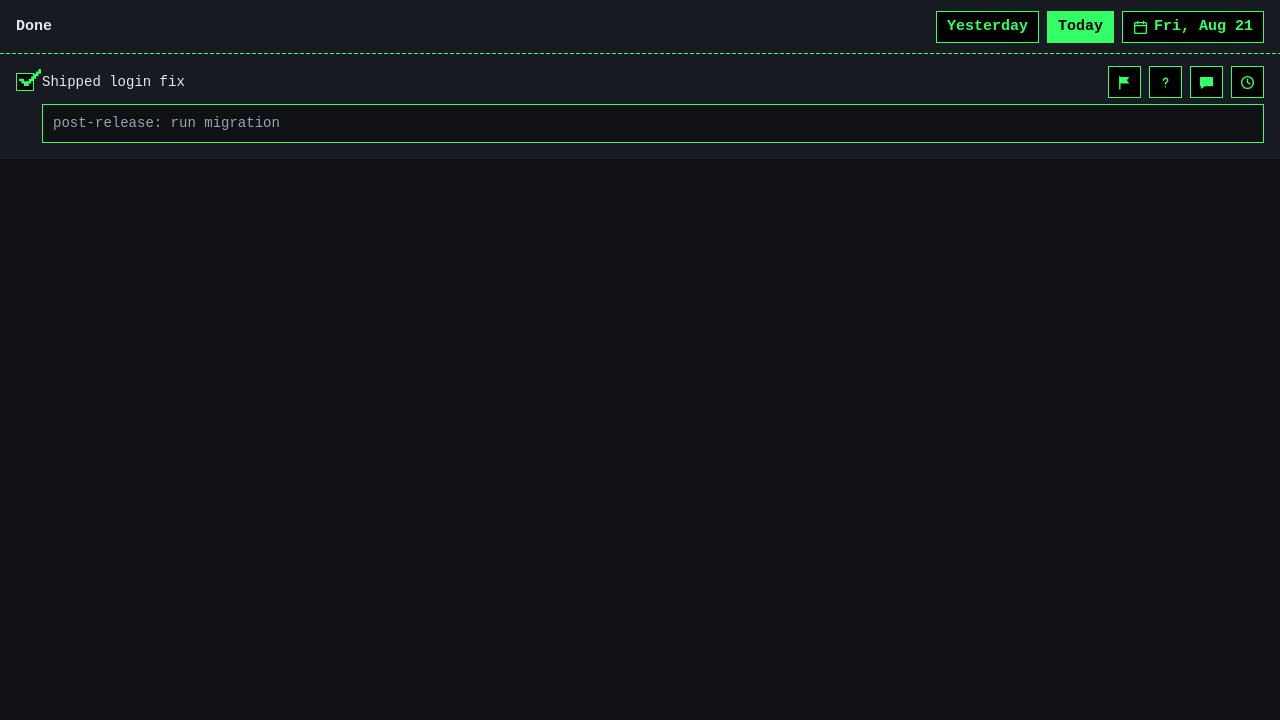
Test: DoneLogBox › disables calendar days that have no logged items
Click the button with aria-label "Pick day". click: point(1193, 27)
box: [1122, 11, 1264, 43]
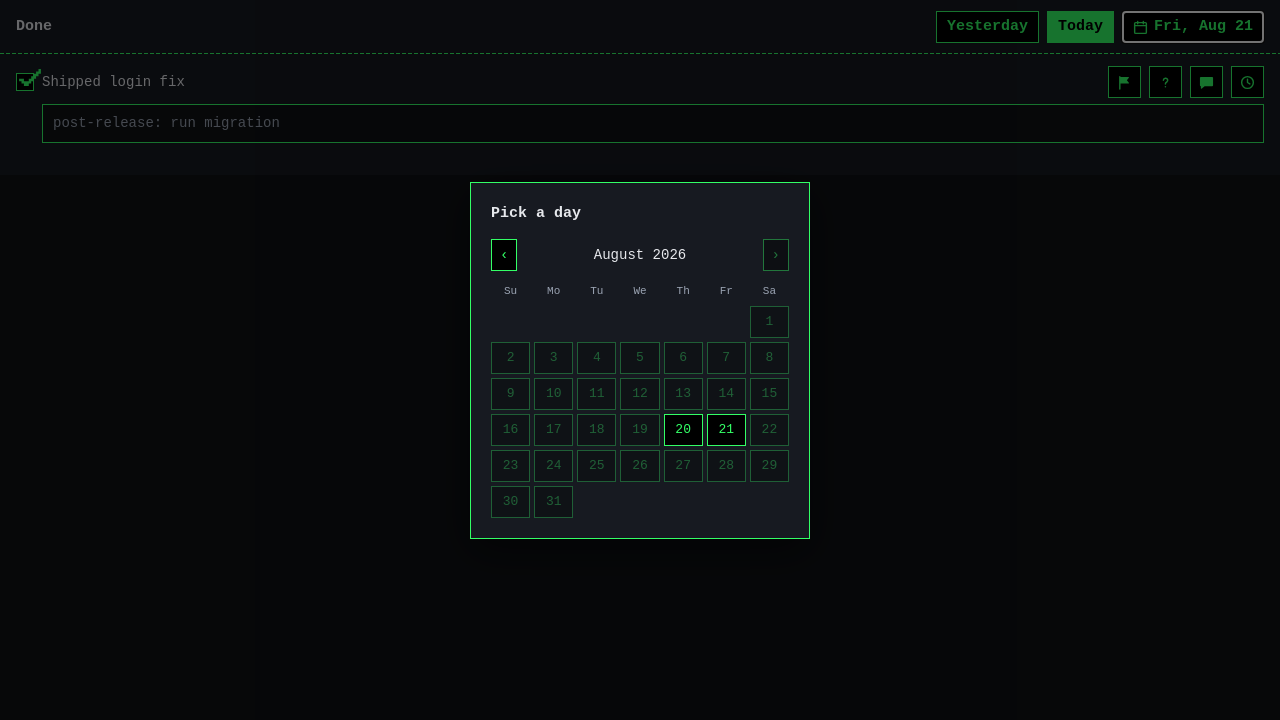
Expected: the button "19" is disabled, [620, 414, 660, 446]
